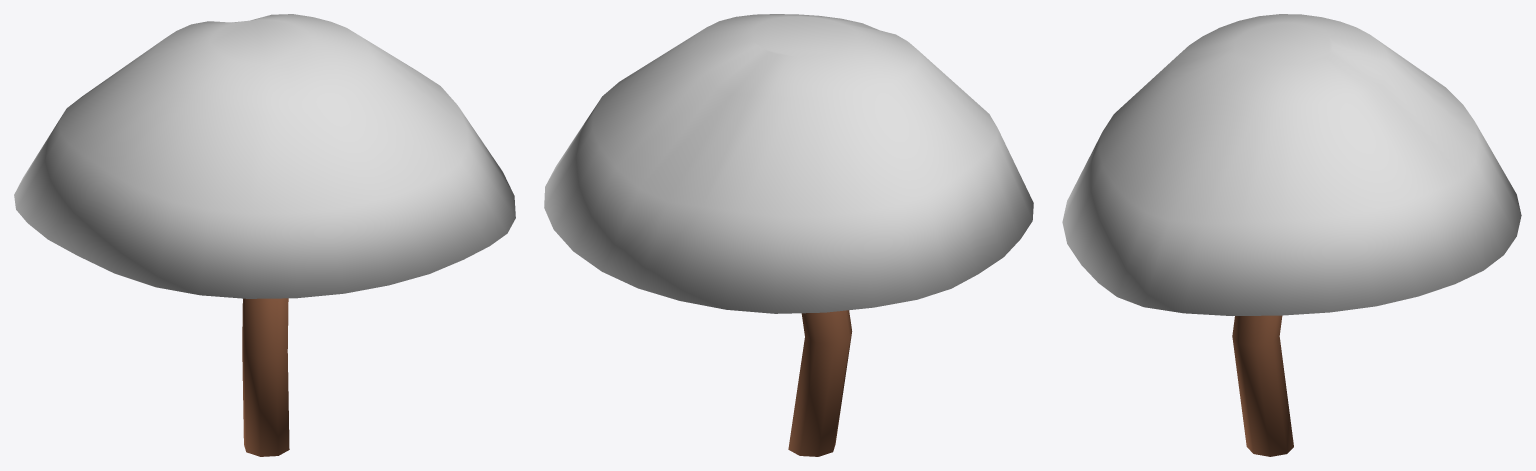
Rendered from mushRoomJumpad1.glb.
3 renders of one model, left to right at view 1: azimuth 30°, elevation 25°; view 2: azimuth 150°, elevation 25°; view 3: azimuth 270°, elevation 25°, orthographic. The views are drawn at different scales.
Visible parts, largest first — view 1: Head_1, Column_1; view 2: Head_1, Column_1; view 3: Head_1, Column_1.
Part boxes in pixels (x1,y1,x2,y2): Head_1: [14, 14, 515, 298]; Column_1: [242, 298, 289, 456]; Head_1: [544, 14, 1033, 313]; Column_1: [788, 310, 852, 456]; Head_1: [1062, 14, 1521, 315]; Column_1: [1232, 315, 1293, 456].
Size of the model in its own units: 4.03 by 3.65 by 3.77.
